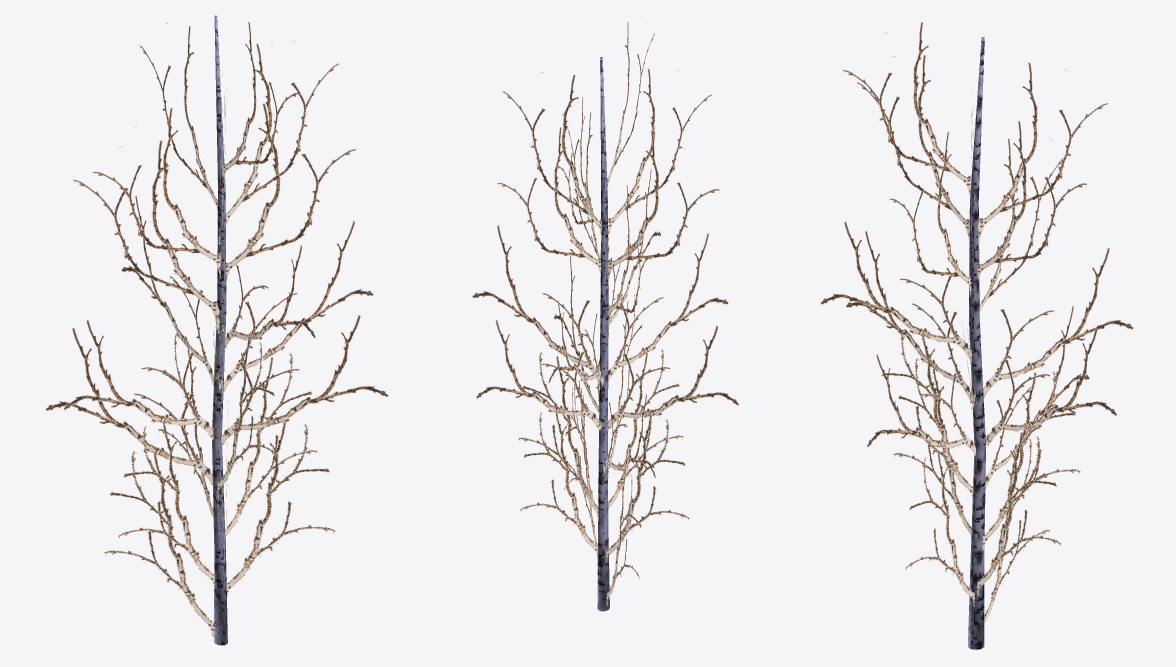
Rendered from koivu1.glb.
3 views of the same model, side by side, from view 1: azimuth 30°, elevation 25°; view 2: azimuth 150°, elevation 25°; view 3: azimuth 270°, elevation 25° (orthographic). The views are drawn at different scales.
Parts seen in each view (by area): view 1: koivu1; view 2: koivu1; view 3: koivu1.
Part boxes in pixels (box(x1,y1,x2,y2)): koivu1: box(45, 15, 388, 645); koivu1: box(472, 16, 739, 611); koivu1: box(820, 22, 1133, 649).
Bounding box in the file's own units: 11.79 × 20.79 × 10.72.
2 materials, 2 textured.
